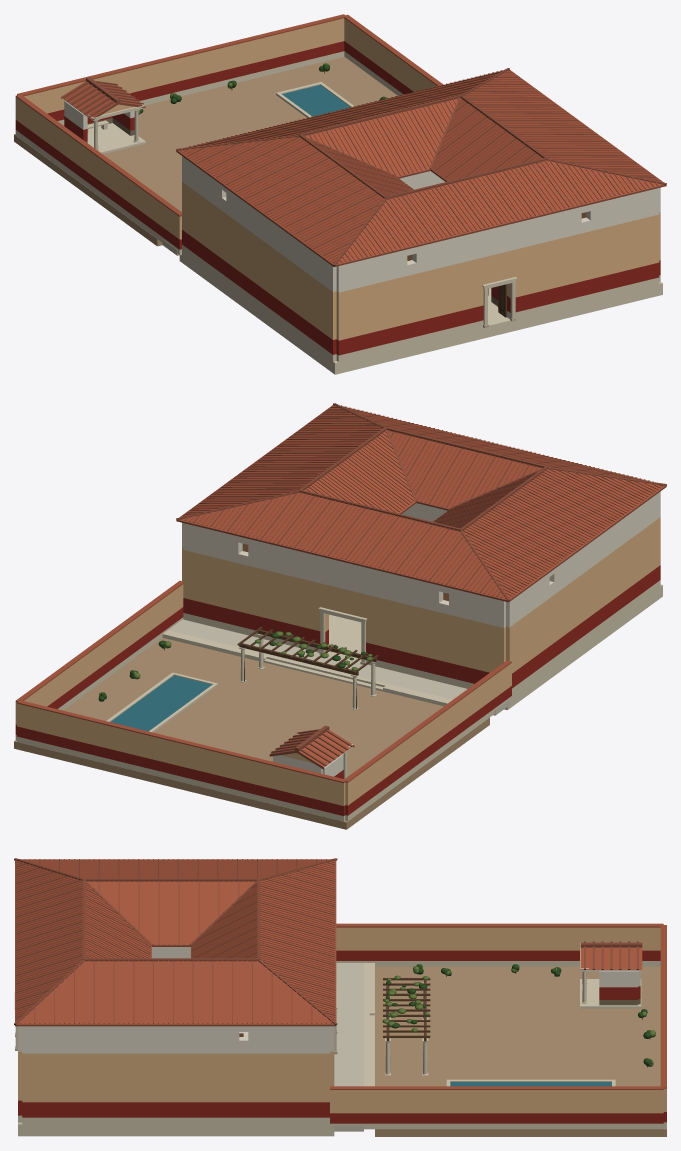
The model's file is rome_domus_e.glb.
3 views of the same model, one above another, from view 1: azimuth 30°, elevation 25°; view 2: azimuth 150°, elevation 25°; view 3: azimuth 270°, elevation 25° (orthographic).
Visible parts, largest first — view 1: rome_domus_e; view 2: rome_domus_e; view 3: rome_domus_e.
Boxes of the visible parts, x1,y1,x2,y2 form: rome_domus_e: (14, 14, 666, 374); rome_domus_e: (14, 403, 666, 829); rome_domus_e: (14, 858, 666, 1136).
Bounding box in the file's own units: 30.13 × 11.49 × 50.09.
